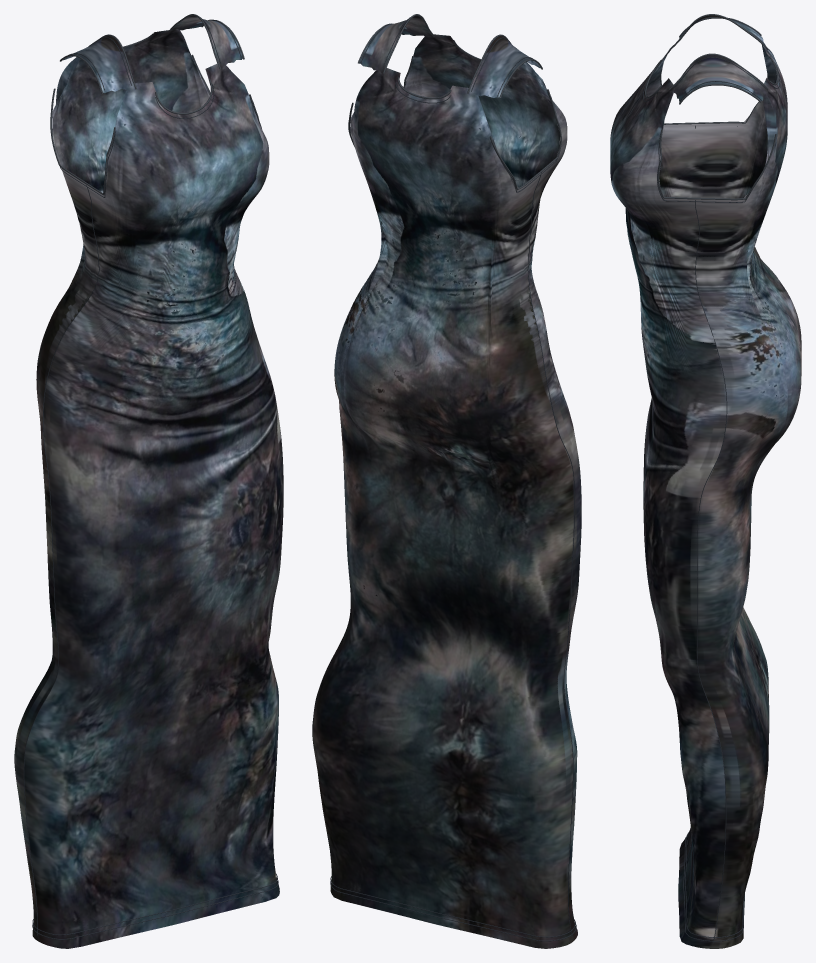
File: vestido-largo-estampado_XS.glb
3 views of the same model, side by side, from view 1: azimuth 30°, elevation 25°; view 2: azimuth 150°, elevation 25°; view 3: azimuth 270°, elevation 25° (orthographic). The views are drawn at different scales.
Visible parts, largest first — view 1: vestido-frente, vestido-espalda, tirante (×2), pespunte; view 2: vestido-espalda, vestido-frente, tirante (×2), pespunte; view 3: vestido-espalda, vestido-frente, tirante, pespunte, ribete.
Part boxes in pixels (x1,y1,x2,y2): vestido-frente: (24,61,283,948); vestido-espalda: (14,29,209,940); tirante (×2): (63,15,242,92); pespunte: (23,185,99,935); vestido-espalda: (312,68,574,948); vestido-frente: (404,34,581,940); tirante (×2): (358,15,540,97); pespunte: (527,172,574,936); vestido-espalda: (695,44,801,948); vestido-frente: (610,45,726,948); tirante: (673,53,767,102); pespunte: (695,200,727,944); ribete: (657,129,776,200).
Bounding box in the file's own units: 0.4154 × 1.4 × 0.282.
Materials: 3 (1 with a texture image).
